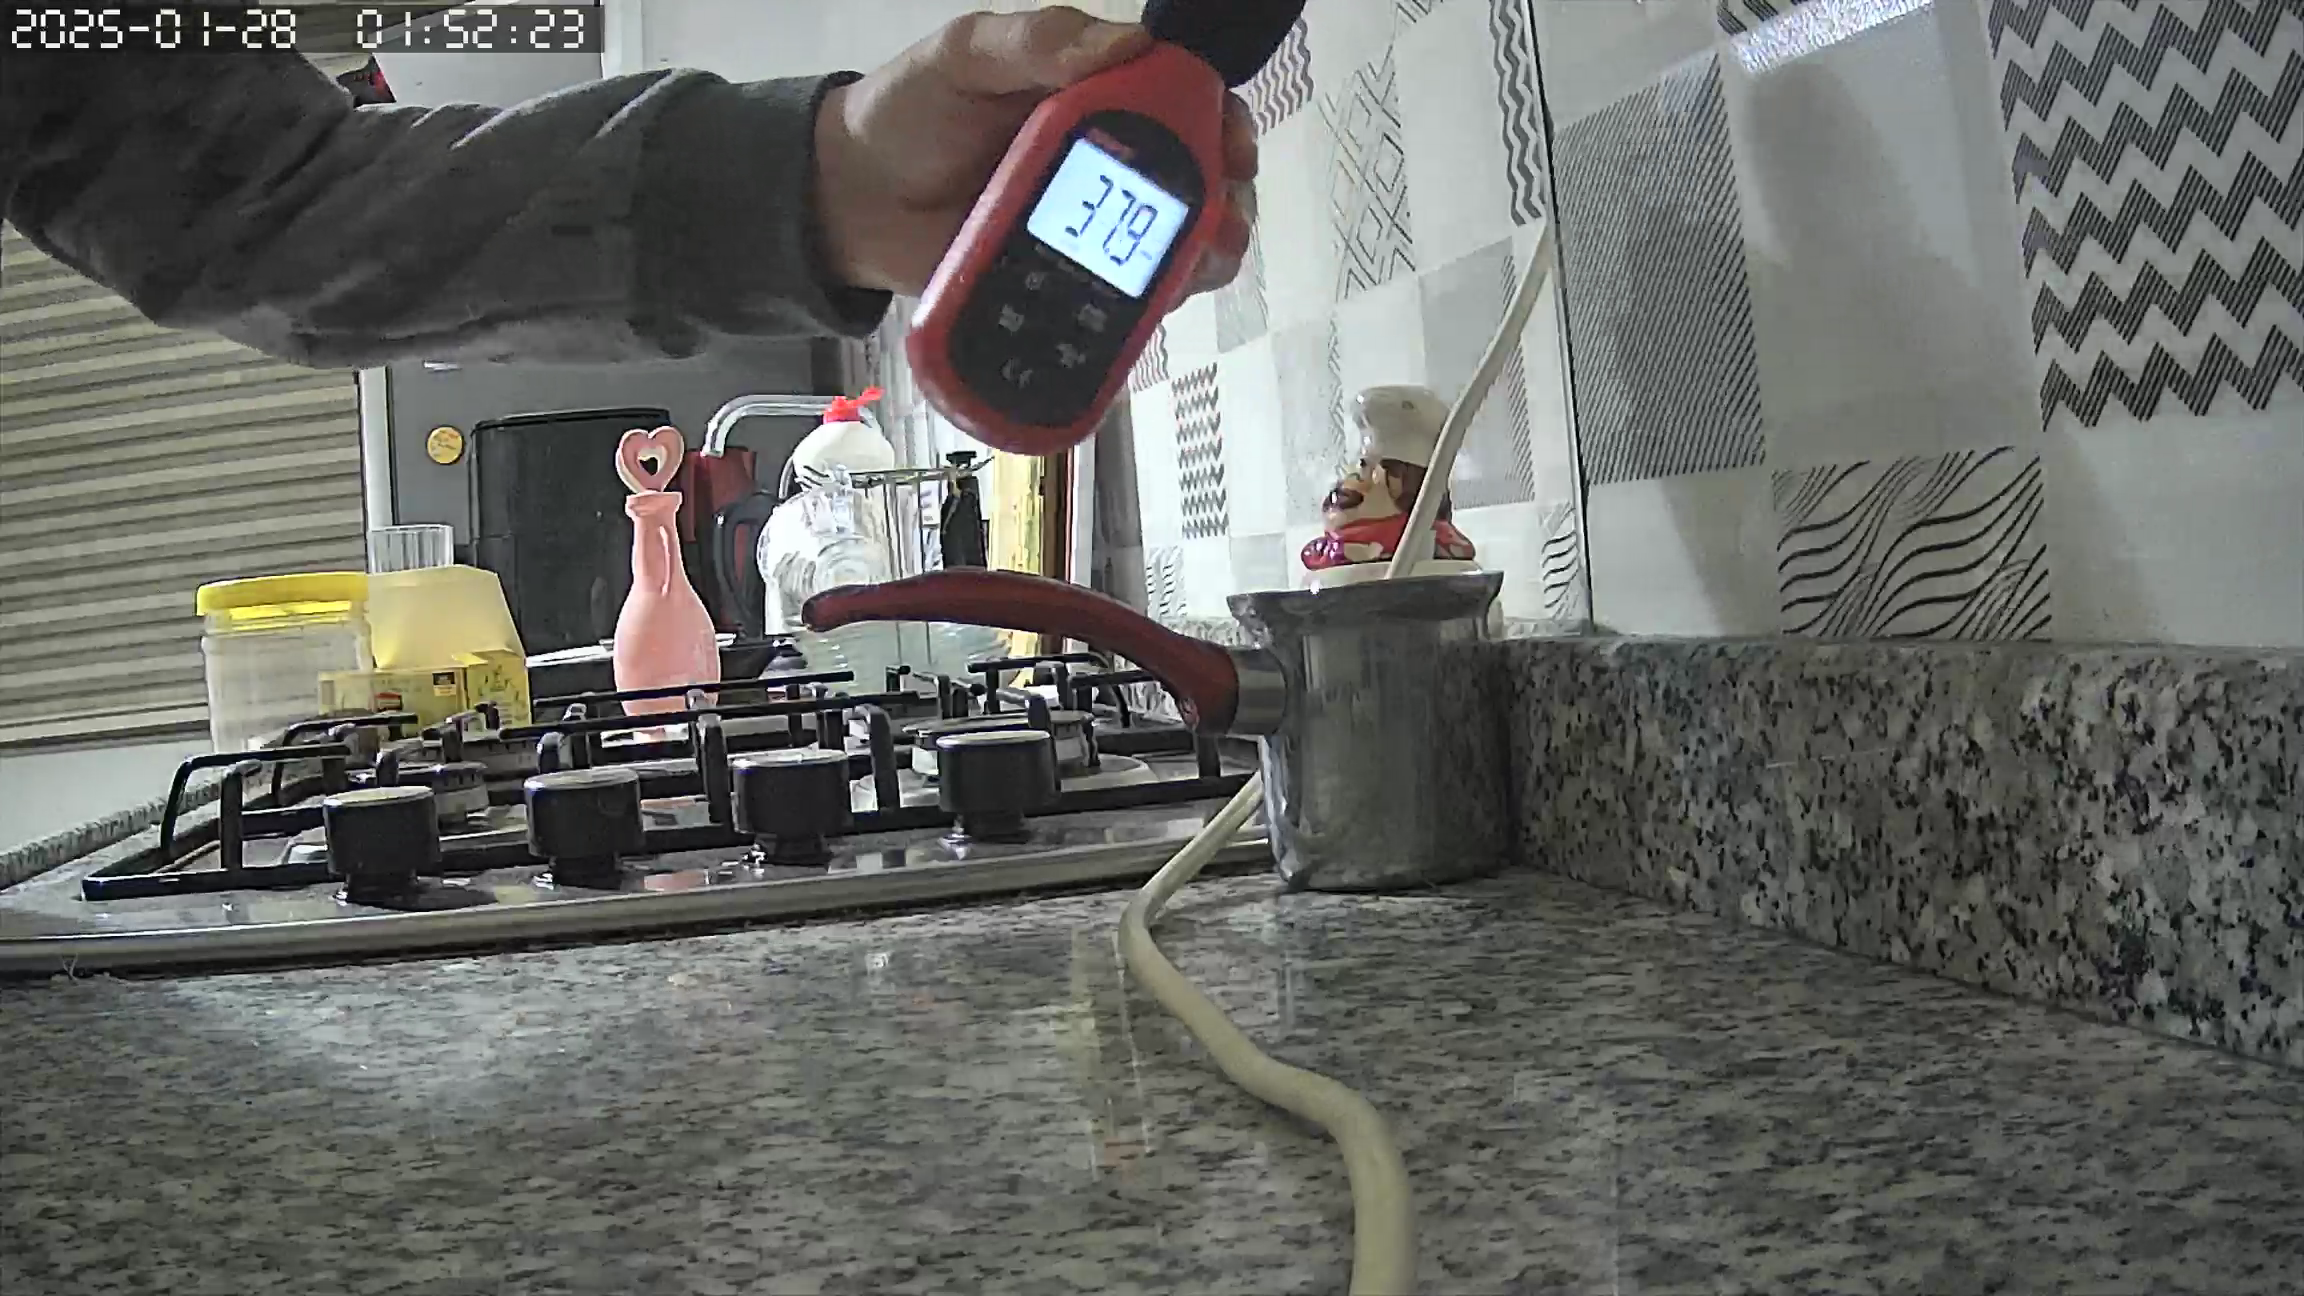screen: (1027, 133, 1188, 302)
